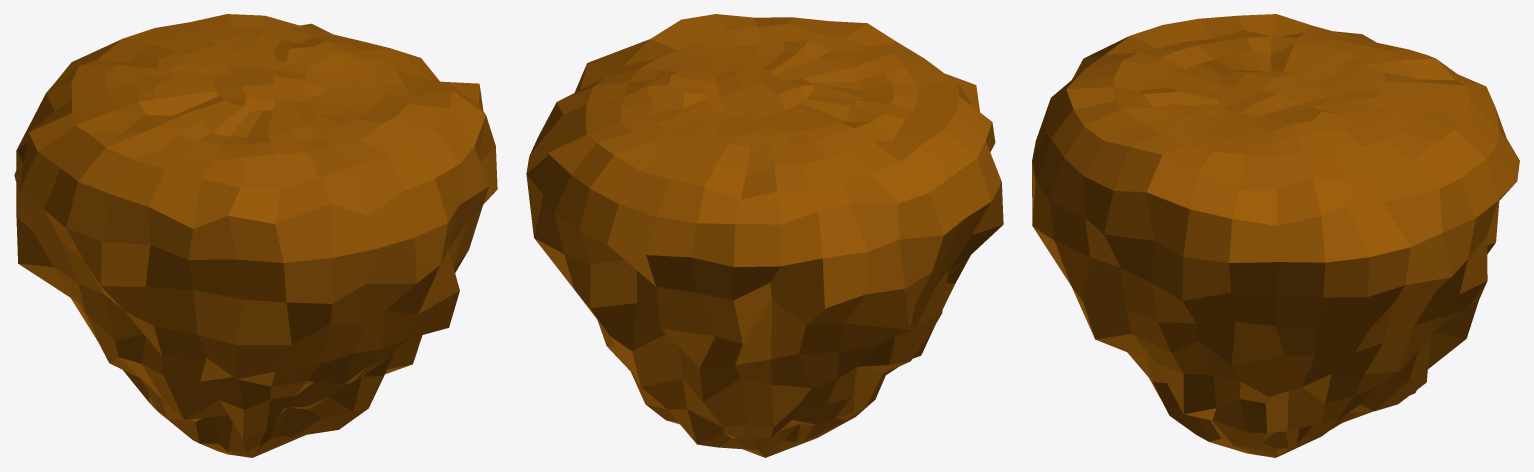
Rendered from float islands.fbx.
The picture shows the model from 3 angles, left to right: view 1: azimuth 30°, elevation 25°; view 2: azimuth 150°, elevation 25°; view 3: azimuth 270°, elevation 25°; orthographic projection. The views are drawn at different scales.
Visible parts, largest first — view 1: Sphere.001; view 2: Sphere.001; view 3: Sphere.001.
Boxes of the visible parts, <box> form: Sphere.001: <box>14,14,497,457</box>; Sphere.001: <box>526,14,1003,457</box>; Sphere.001: <box>1032,14,1519,457</box>.
Bounding box in the file's own units: 9272 × 7991 × 9386.
